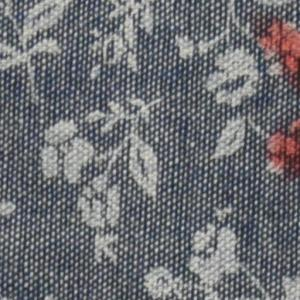Stain: (245, 8, 300, 187)
